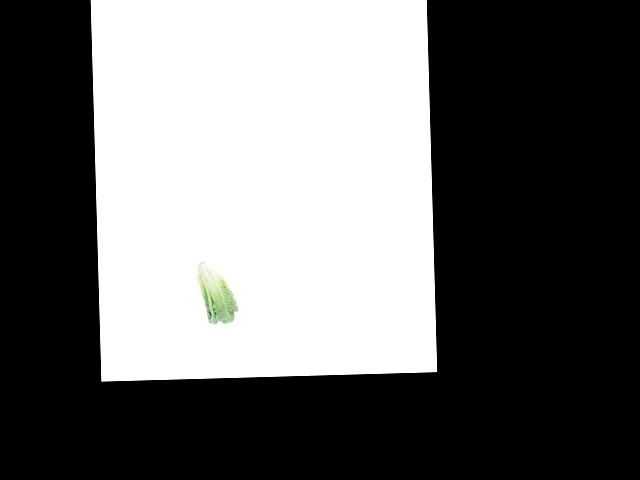lettuce: (194, 256, 237, 326)
